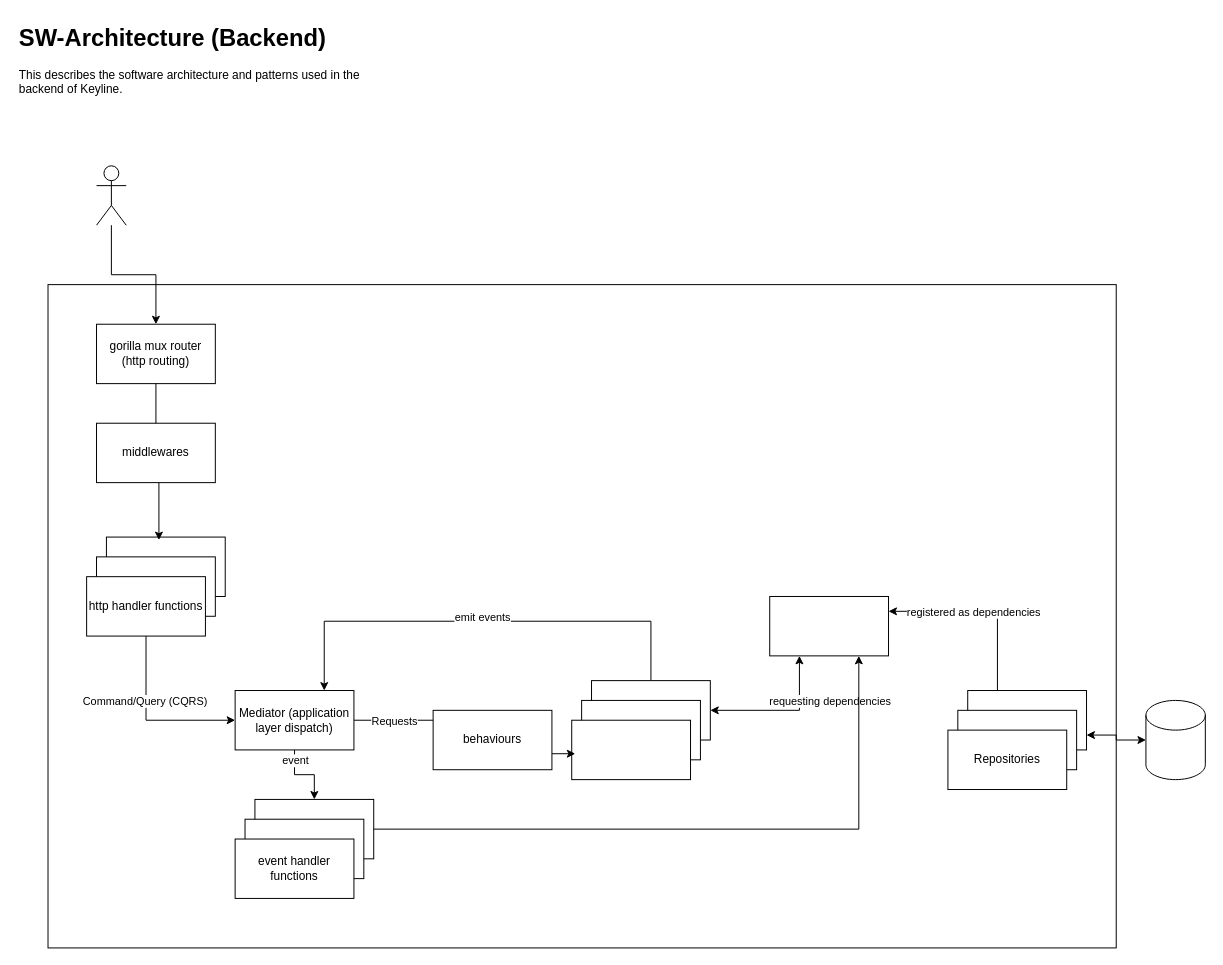
This 1223x965 diagram has some shape labels left out. Each missing label, with the centre of its shape:
Client: the point at 111,195
DB Postgres: the point at 1175,739
IoC Container: the point at 829,625
request handler functions: the point at 631,749
